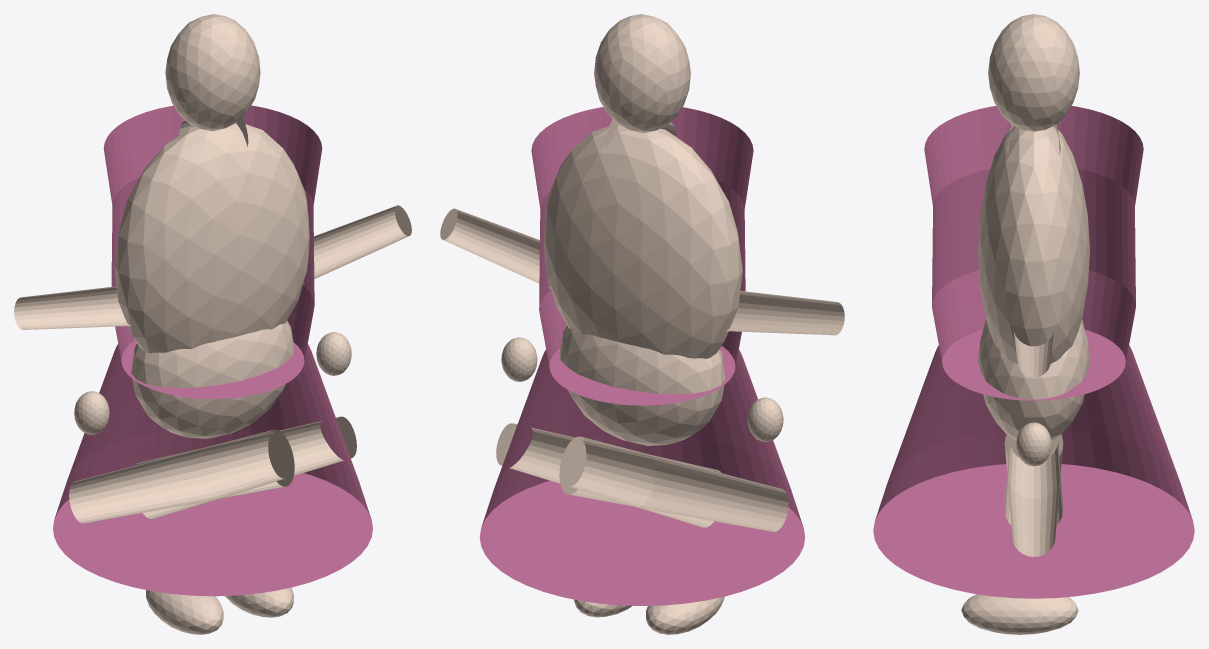
The model's file is masculino-conjunto.glb.
The picture shows the model from 3 angles, left to right: view 1: azimuth 30°, elevation 25°; view 2: azimuth 150°, elevation 25°; view 3: azimuth 270°, elevation 25°; orthographic projection.
Visible parts, largest first — view 1: Prenda, Avatar0, Avatar1, Avatar3, Avatar4, Avatar8, Avatar6, Avatar10, Avatar5, Avatar9, Avatar7, Avatar11; view 2: Prenda, Avatar0, Avatar1, Avatar3, Avatar4, Avatar8, Avatar6, Avatar10, Avatar5, Avatar7, Avatar11, Avatar9; view 3: Prenda, Avatar0, Avatar3, Avatar1, Avatar9, Avatar8, Avatar4, Avatar11, Avatar10.
Part boxes in pixels (bbox=[...]): Prenda: bbox=[53, 105, 372, 596]; Avatar0: bbox=[114, 123, 309, 353]; Avatar1: bbox=[131, 321, 294, 438]; Avatar3: bbox=[165, 14, 260, 131]; Avatar4: bbox=[69, 429, 294, 523]; Avatar8: bbox=[134, 416, 356, 518]; Avatar6: bbox=[14, 286, 131, 329]; Avatar10: bbox=[303, 205, 411, 284]; Avatar5: bbox=[146, 590, 223, 634]; Avatar9: bbox=[225, 587, 293, 617]; Avatar7: bbox=[74, 391, 109, 434]; Avatar11: bbox=[316, 332, 351, 375]; Prenda: bbox=[479, 107, 805, 605]; Avatar0: bbox=[544, 125, 742, 358]; Avatar1: bbox=[559, 326, 725, 445]; Avatar3: bbox=[594, 14, 690, 133]; Avatar4: bbox=[559, 436, 788, 531]; Avatar8: bbox=[496, 423, 721, 527]; Avatar6: bbox=[726, 291, 844, 335]; Avatar10: bbox=[440, 208, 550, 288]; Avatar5: bbox=[646, 596, 724, 634]; Avatar7: bbox=[747, 397, 783, 441]; Avatar11: bbox=[501, 337, 537, 381]; Avatar9: bbox=[574, 599, 632, 617]; Prenda: bbox=[873, 106, 1194, 598]; Avatar0: bbox=[978, 126, 1089, 363]; Avatar3: bbox=[988, 14, 1079, 131]; Avatar1: bbox=[978, 320, 1089, 439]; Avatar9: bbox=[961, 594, 1078, 634]; Avatar8: bbox=[1004, 434, 1063, 556]; Avatar4: bbox=[1004, 441, 1063, 525]; Avatar11: bbox=[1016, 422, 1051, 466]; Avatar10: bbox=[1013, 331, 1054, 377].
Bounding box in the file's own units: 1.75 × 2.58 × 1.26.
